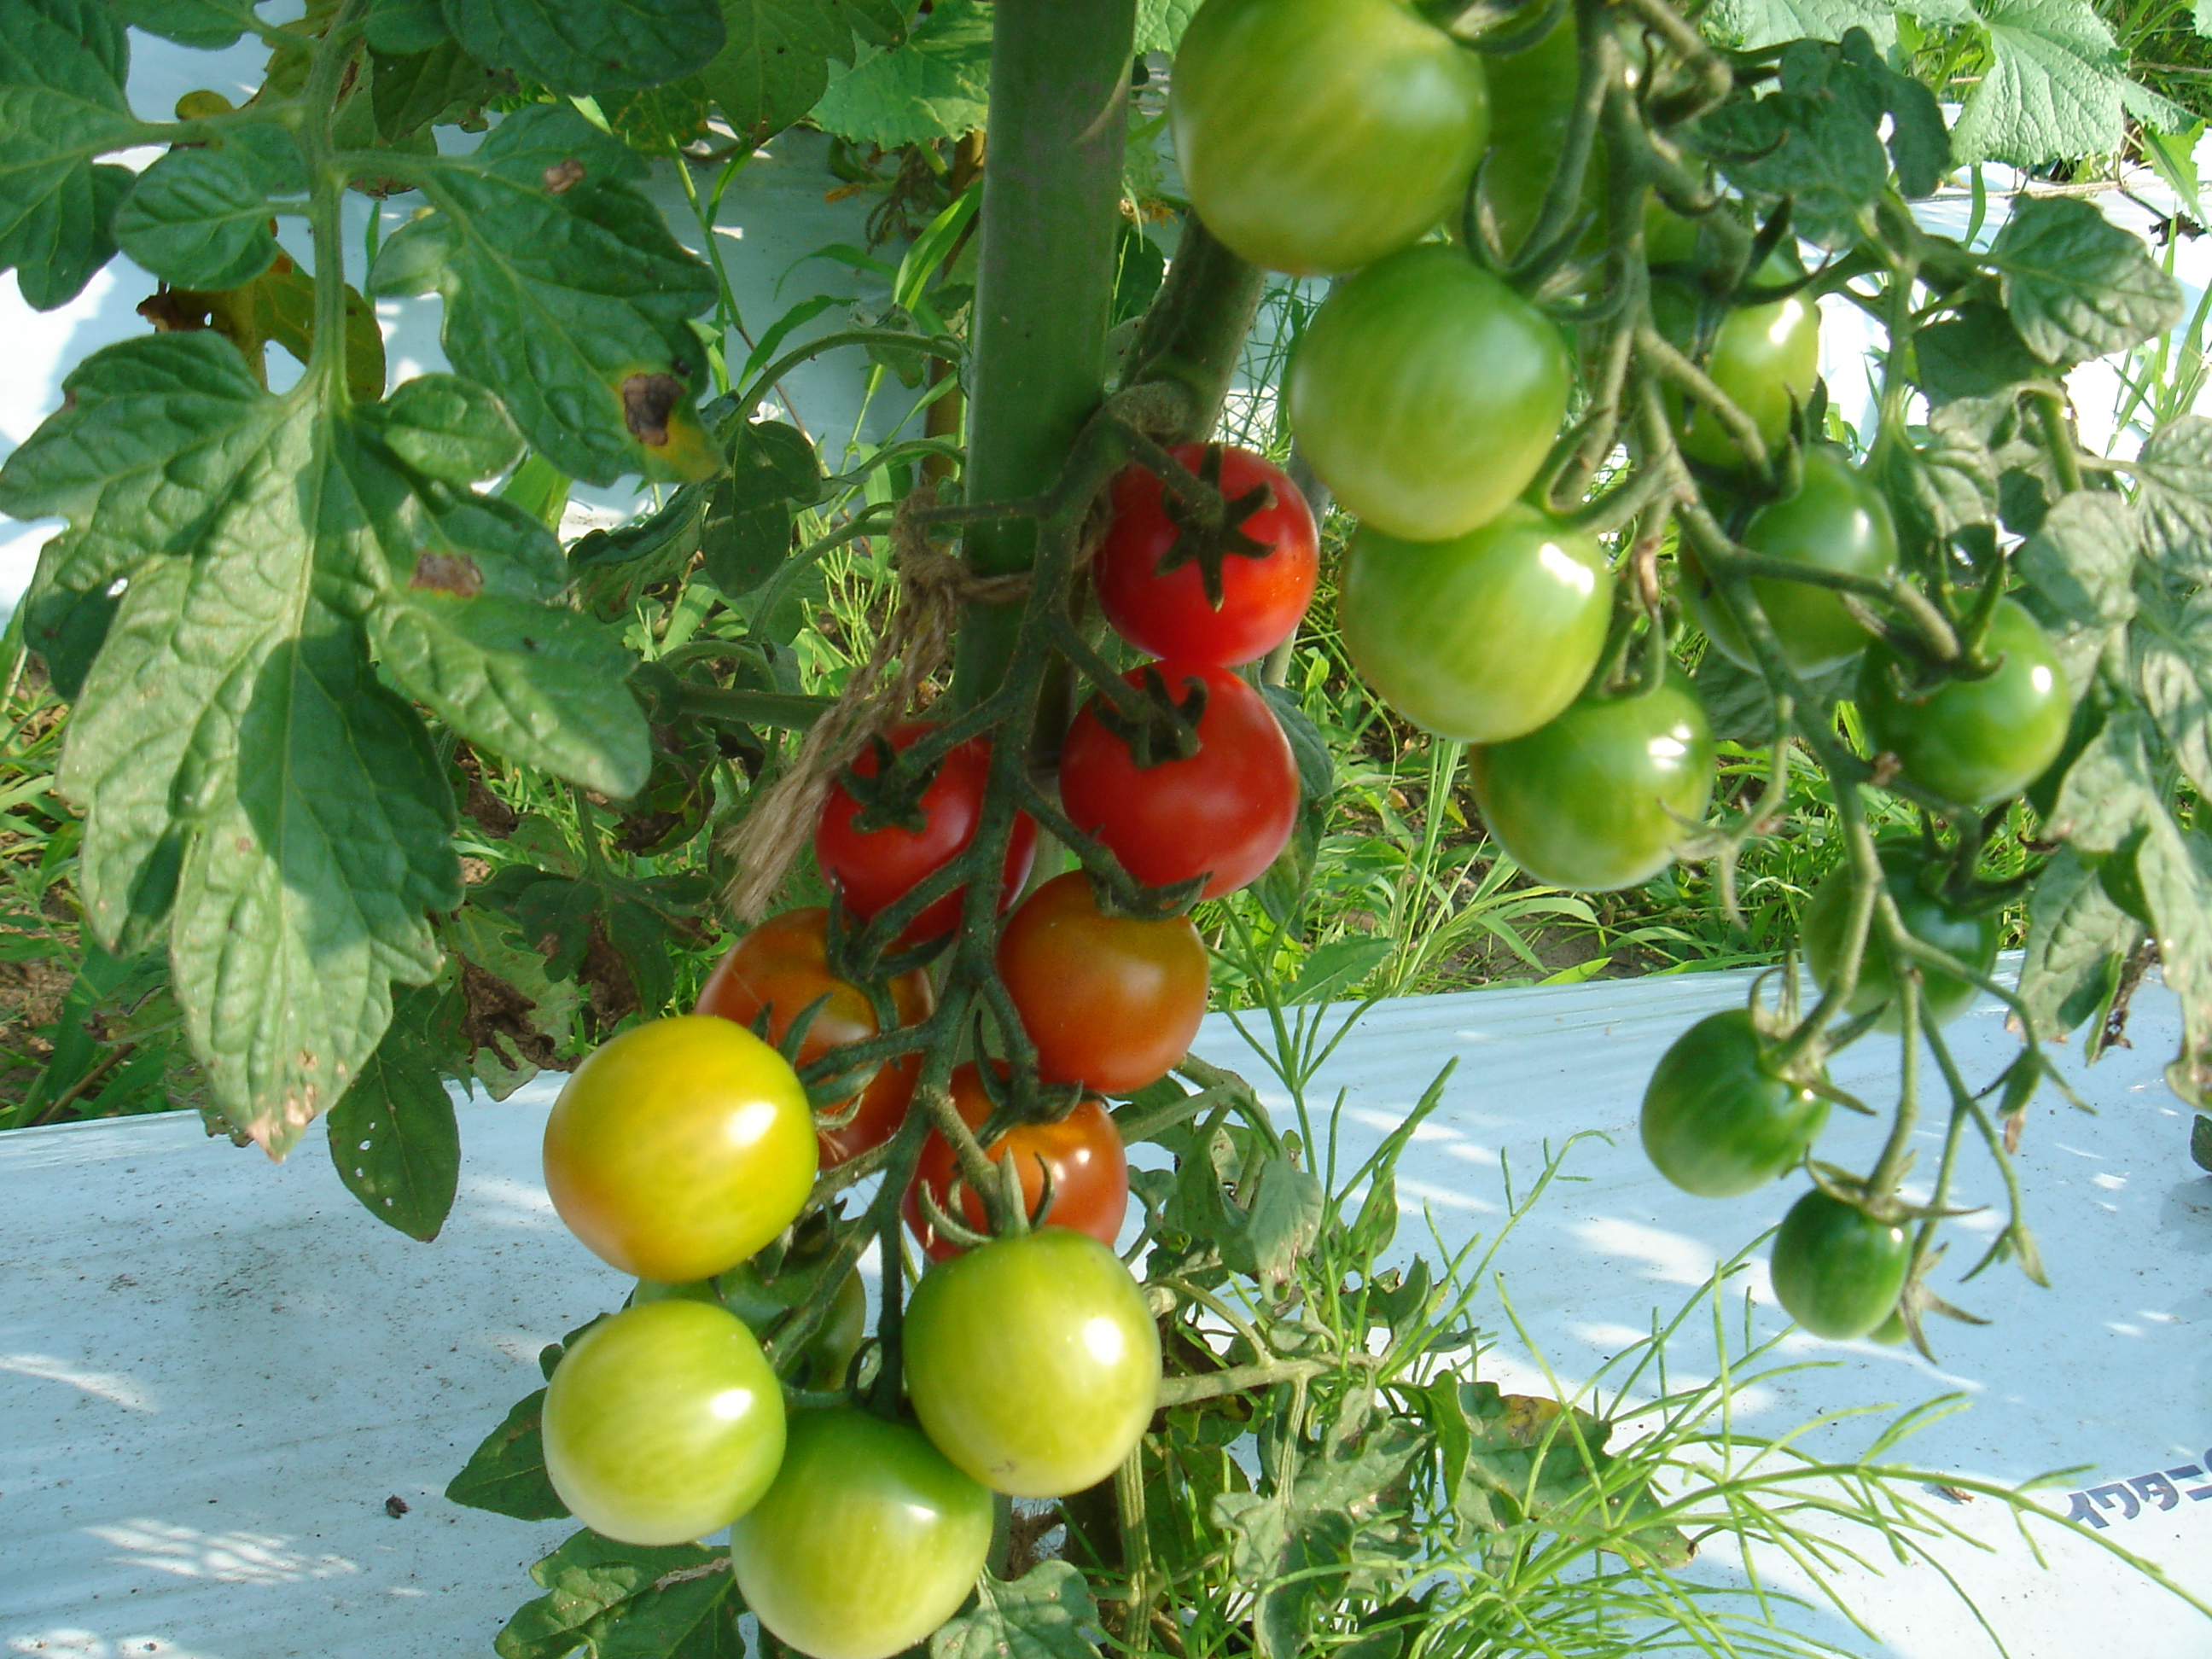tomato: (1165, 0, 1494, 281), (1285, 247, 1573, 540), (547, 1012, 819, 1286), (721, 1392, 998, 1657), (1456, 7, 1707, 291), (1332, 497, 1618, 746), (894, 1230, 1160, 1497), (690, 903, 930, 1190), (1474, 626, 1714, 894), (538, 1293, 789, 1542), (1062, 660, 1299, 904), (1676, 446, 1905, 678), (984, 870, 1212, 1101), (813, 716, 1035, 945), (1092, 441, 1324, 659), (1853, 586, 2076, 807), (1616, 228, 1822, 465), (913, 1056, 1122, 1253), (1792, 838, 2000, 1033), (1639, 1004, 1836, 1199), (1771, 1190, 1914, 1338)
